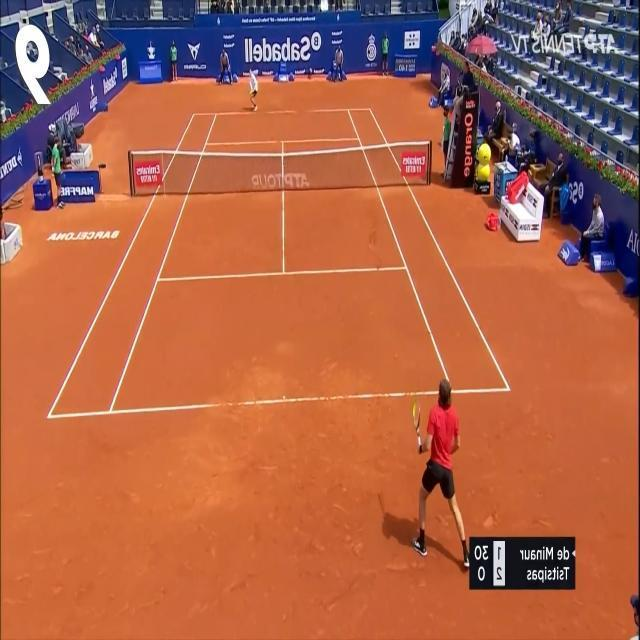court: (46, 108, 512, 420)
net: (128, 138, 432, 196)
player: (412, 376, 469, 569)
